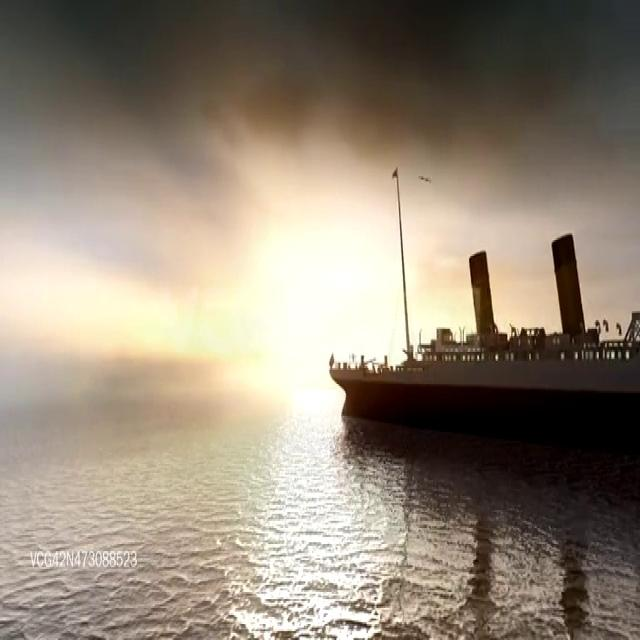passenger ship: (325, 179, 640, 452)
